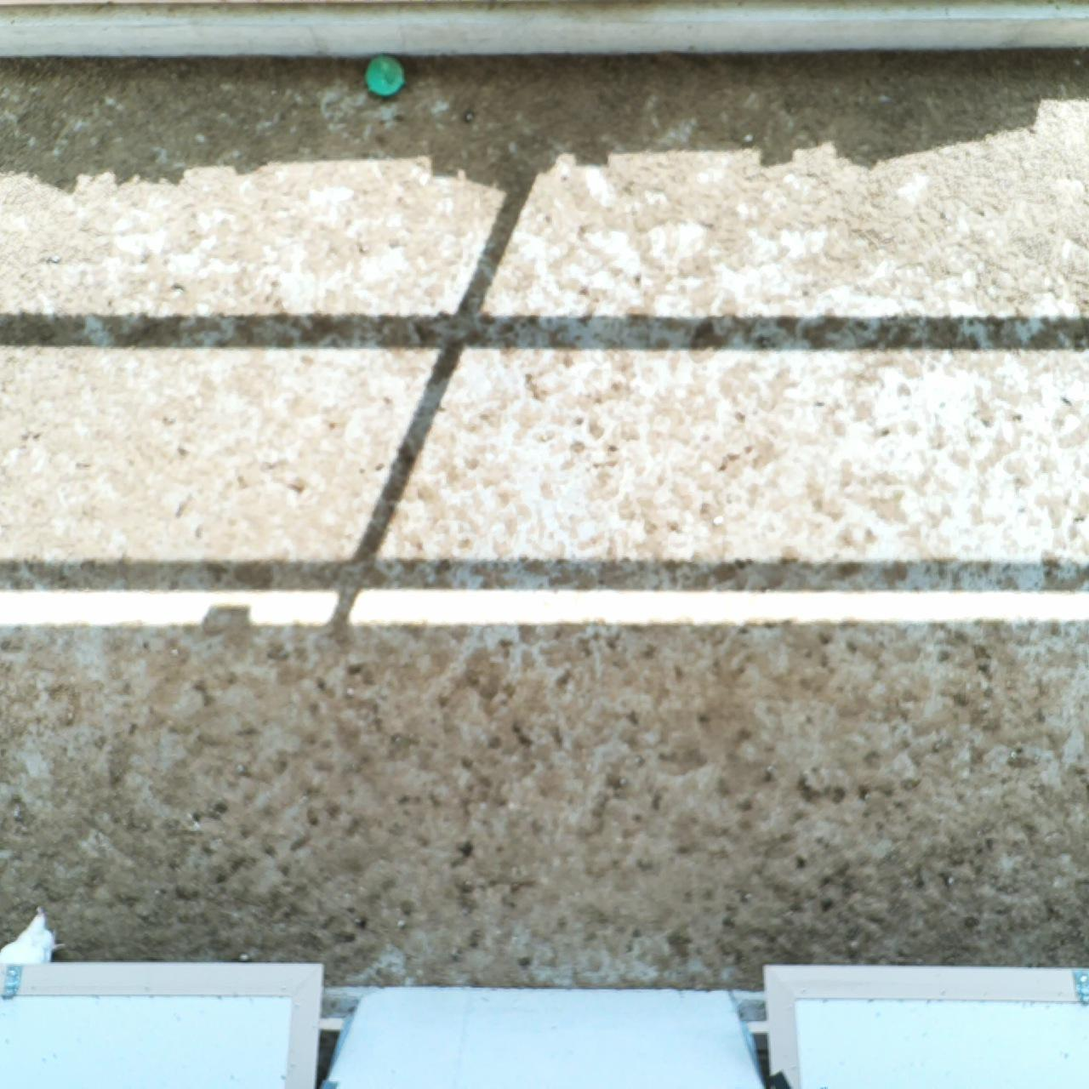chicken: (0, 909, 66, 991)
